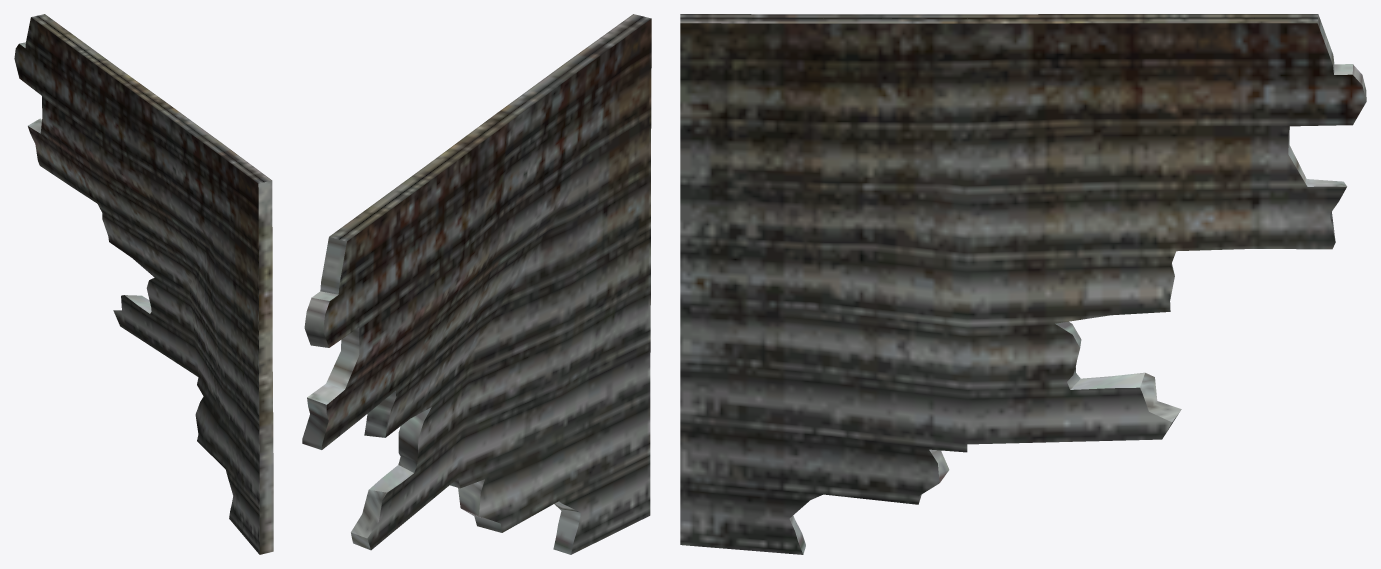
The model's file is door_sliding_breakable01_b.glb.
The picture shows the model from 3 angles, left to right: view 1: azimuth 30°, elevation 25°; view 2: azimuth 150°, elevation 25°; view 3: azimuth 270°, elevation 25°; orthographic projection. The views are drawn at different scales.
Visible parts, largest first — view 1: door_sliding_breakable01_b; view 2: door_sliding_breakable01_b; view 3: door_sliding_breakable01_b.
Part boxes in pixels (<box>): door_sliding_breakable01_b: <box>14,14,273,554</box>; door_sliding_breakable01_b: <box>302,14,651,554</box>; door_sliding_breakable01_b: <box>680,14,1366,554</box>.
Size of the model in its own units: 0.1252 by 0.762 by 0.9099.
1 material, 1 textured.
